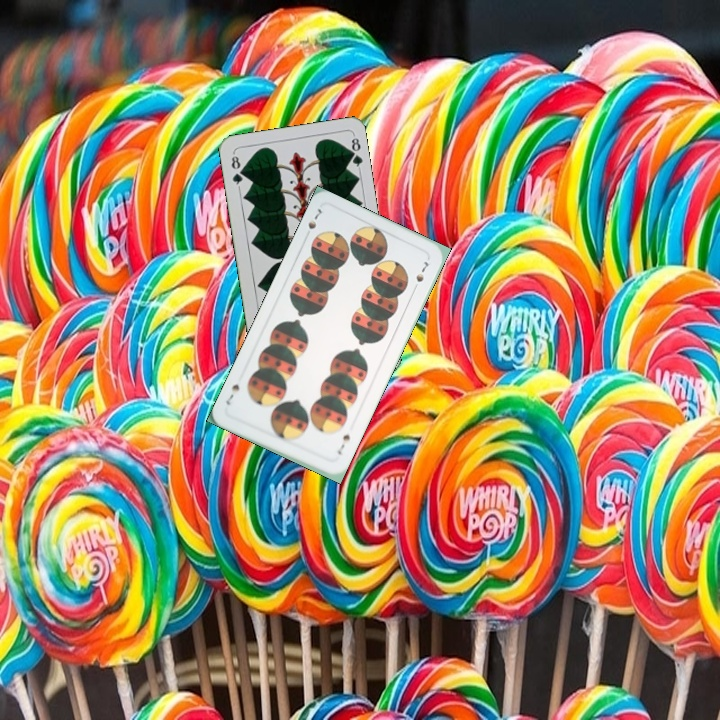G8: (227, 150, 246, 190)
S7: (304, 204, 325, 232), (333, 430, 353, 457)
